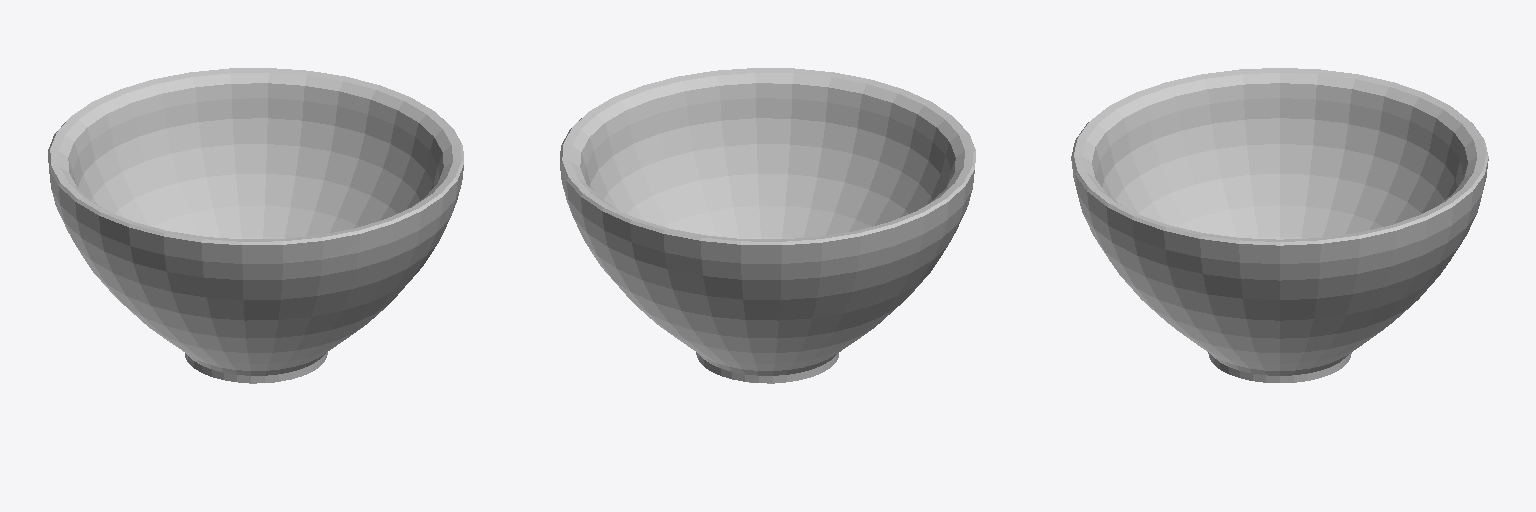
The model's file is Cup2.obj.
3 views of the same model, side by side, from view 1: azimuth 30°, elevation 25°; view 2: azimuth 150°, elevation 25°; view 3: azimuth 270°, elevation 25° (orthographic).
Visible parts, largest first — view 1: Cup2_Cylinder.003; view 2: Cup2_Cylinder.003; view 3: Cup2_Cylinder.003.
Part boxes in pixels (bbox=[...]): Cup2_Cylinder.003: bbox=[48, 68, 463, 383]; Cup2_Cylinder.003: bbox=[560, 68, 975, 383]; Cup2_Cylinder.003: bbox=[1071, 68, 1488, 382].
Size of the model in its own units: 0.4973 by 0.2655 by 0.4973.